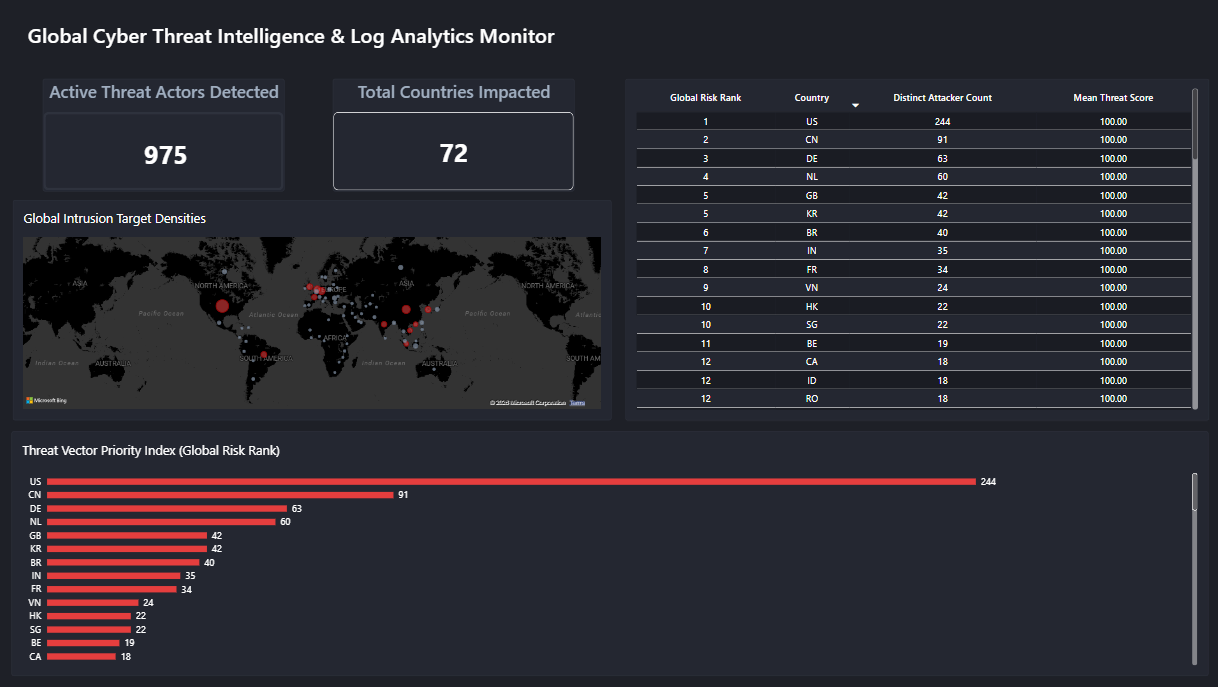

The dashboard page shown, as its layout file describes it:
{"tool":"powerbi","page":{"name":"Threat_Monitor_Report","canvas":[1920,1080],"ordinal":0},"visuals":[{"type":"cardVisual","title":"Active Threat Actors Detected","fields":{"Data":["Sum(public vw_threat_incident_rankings.distinct_attacker_count)"]},"box":[68.2,122.7,379.2,177.1],"z":0},{"type":"cardVisual","title":"Total Countries Impacted","fields":{"Data":["Count(public vw_threat_incident_rankings.country)"]},"box":[522.7,122.7,379.2,177.1],"z":1},{"type":"map","title":"Global Intrusion Target Densities","fields":{"Category":["public vw_threat_incident_rankings.country"],"Size":["Sum(public vw_threat_incident_rankings.distinct_attacker_count)"]},"box":[20.8,314.6,939.6,345.8],"z":2},{"type":"clusteredBarChart","title":"Threat Vector Priority Index (Global Risk Rank)","fields":{"Category":["public vw_threat_incident_rankings.country"],"Y":["Sum(public vw_threat_incident_rankings.distinct_attacker_count)"]},"box":[20.5,677.3,1877.3,384.1],"z":3},{"type":"tableEx","fields":{"Values":["Sum(public vw_threat_incident_rankings.global_risk_rank)","public vw_threat_incident_rankings.country","Sum(public vw_threat_incident_rankings.distinct_attacker_count)","Sum(public vw_threat_incident_rankings.mean_threat_score)"]},"box":[981.8,122.7,915.9,536.4],"z":4},{"type":"textbox","box":[45.1,33.3,888.2,90.2],"z":5}]}

Visuals, with their boxes in screenshot pixels (x1, y1, x2, y2), scaled from the page's 1920x1080 canvas onto the 1218x687 screenshot:
"Active Threat Actors Detected" cardVisual: (left=43, top=78, right=284, bottom=191)
"Total Countries Impacted" cardVisual: (left=332, top=78, right=572, bottom=191)
"Global Intrusion Target Densities" map: (left=13, top=200, right=609, bottom=420)
"Threat Vector Priority Index (Global Risk Rank)" clusteredBarChart: (left=13, top=431, right=1204, bottom=675)
tableEx - Sum(public vw_threat_incident_rankings.global_risk_rank) x public vw_threat_incident_rankings.country: (left=623, top=78, right=1204, bottom=419)
textbox: (left=29, top=21, right=592, bottom=79)
